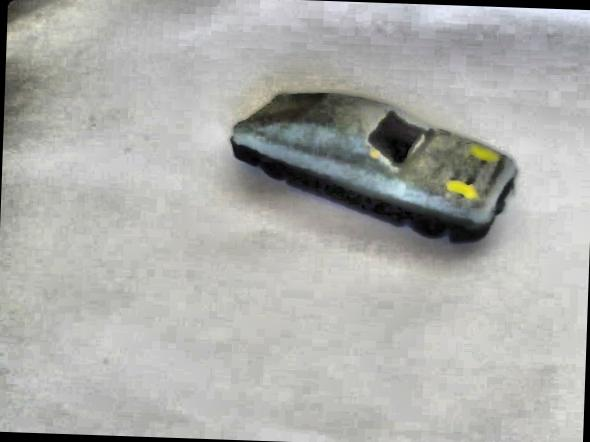normal_car: (220, 82, 524, 248)
